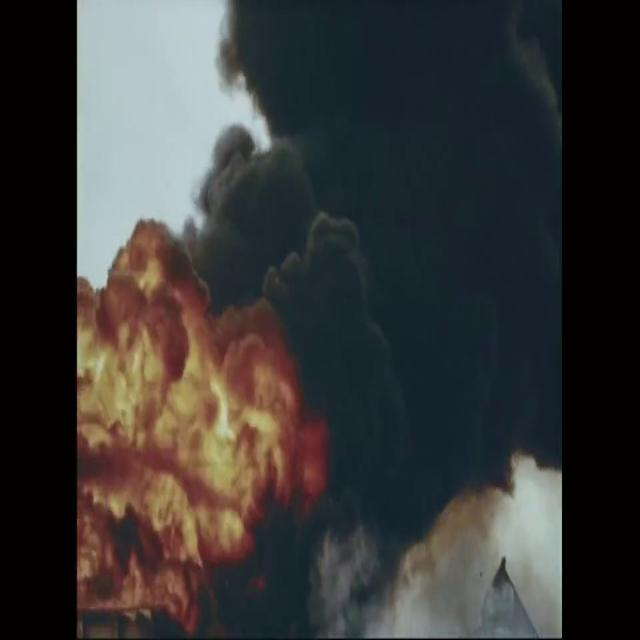explosion: (78, 0, 558, 640)
